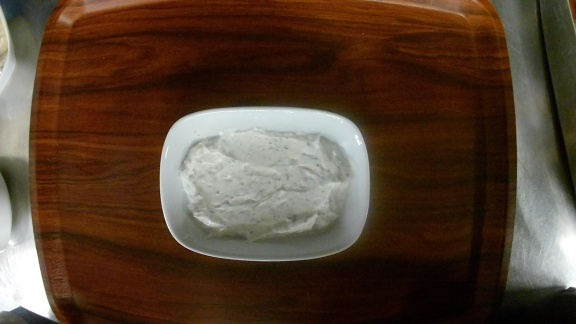haydari: (159, 106, 372, 262)
